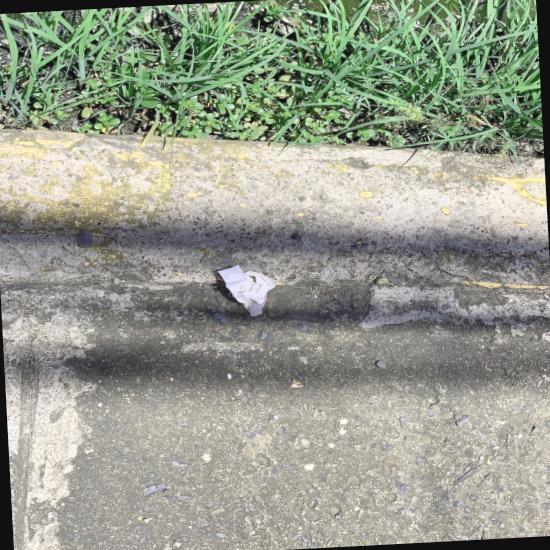Cigarette: (287, 175, 302, 179)
Glass bottle: (480, 343, 550, 447), (427, 81, 528, 119)
